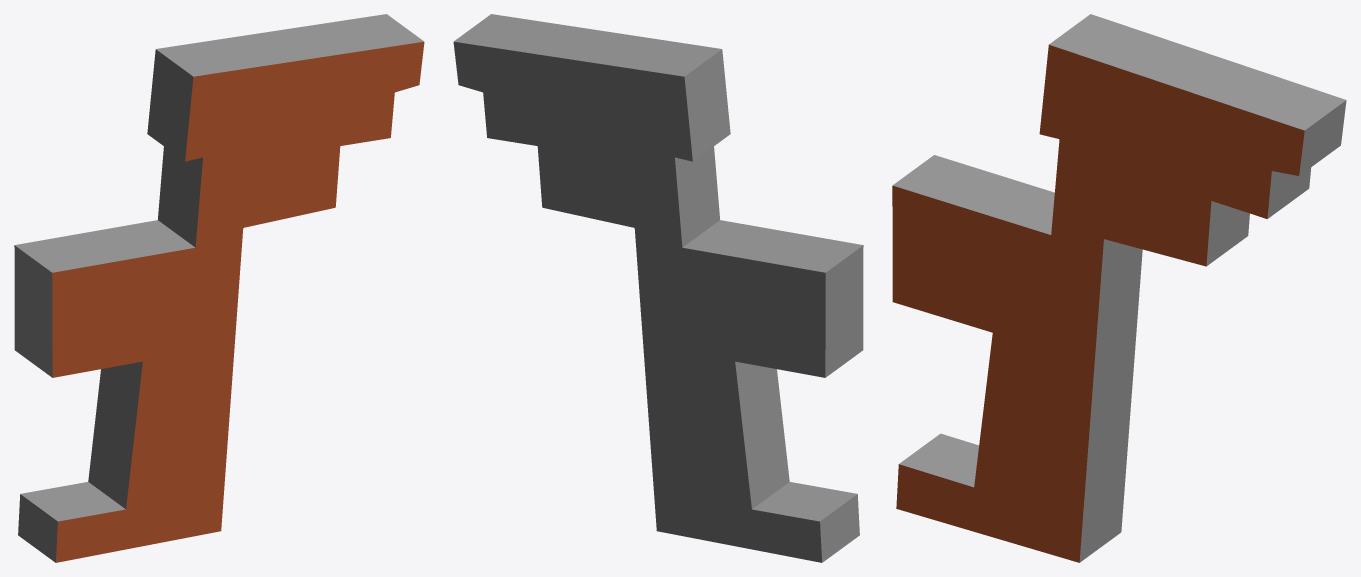
Rendered from construction_4534_assumed_A_Casa_h6m.obj.
3 views of the same model, side by side, from view 1: azimuth 30°, elevation 25°; view 2: azimuth 150°, elevation 25°; view 3: azimuth 330°, elevation 25° (orthographic). The views are drawn at different scales.
Visible parts, largest first — view 1: construction_4534_assumed_A_Casa; view 2: construction_4534_assumed_A_Casa; view 3: construction_4534_assumed_A_Casa.
Part boxes in pixels (box(x1,y1,x2,y2)): construction_4534_assumed_A_Casa: box(14, 14, 424, 562); construction_4534_assumed_A_Casa: box(453, 14, 863, 562); construction_4534_assumed_A_Casa: box(892, 14, 1346, 562).
Size of the model in its own units: 34.13 by 40.41 by 6.
